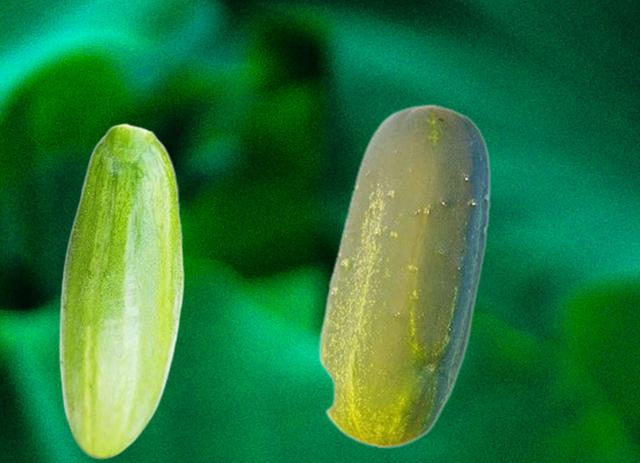cucumber: (317, 103, 489, 448), (58, 123, 183, 458)
